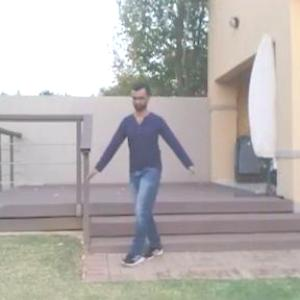land: (98, 89, 208, 270)
